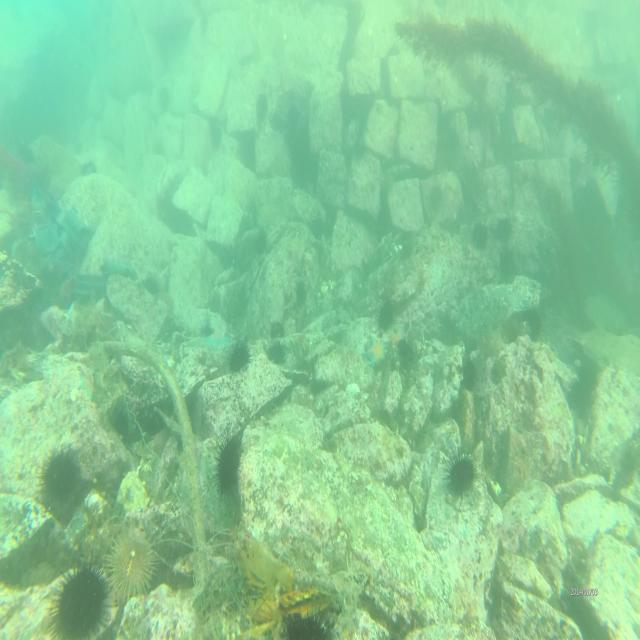echinus: (51, 554, 110, 640), (108, 522, 154, 602), (39, 445, 82, 501), (281, 600, 337, 640), (209, 430, 243, 494), (443, 448, 481, 500), (476, 328, 503, 360), (227, 340, 249, 369), (468, 220, 487, 250), (265, 339, 285, 366), (494, 216, 513, 243), (269, 318, 284, 344)
starfish: (362, 334, 388, 371), (203, 326, 225, 350)
